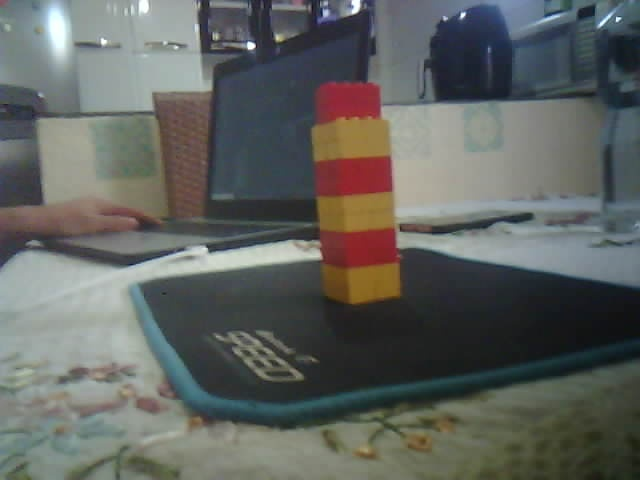lego: (310, 81, 402, 306)
